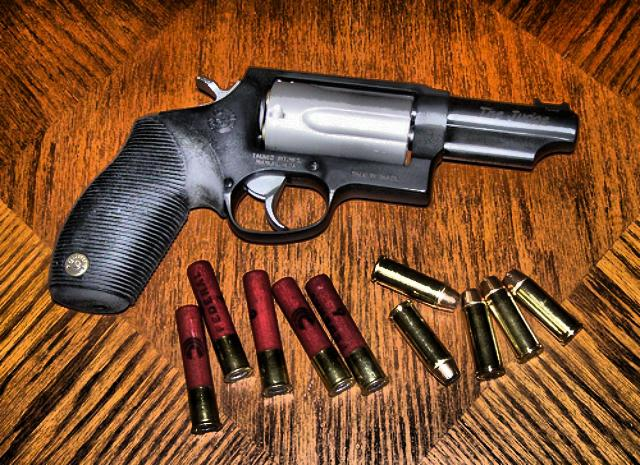pistol: (44, 64, 580, 314)
